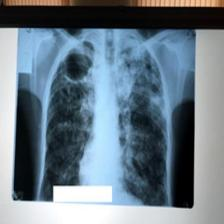tuberculosis: (36, 28, 173, 207)
